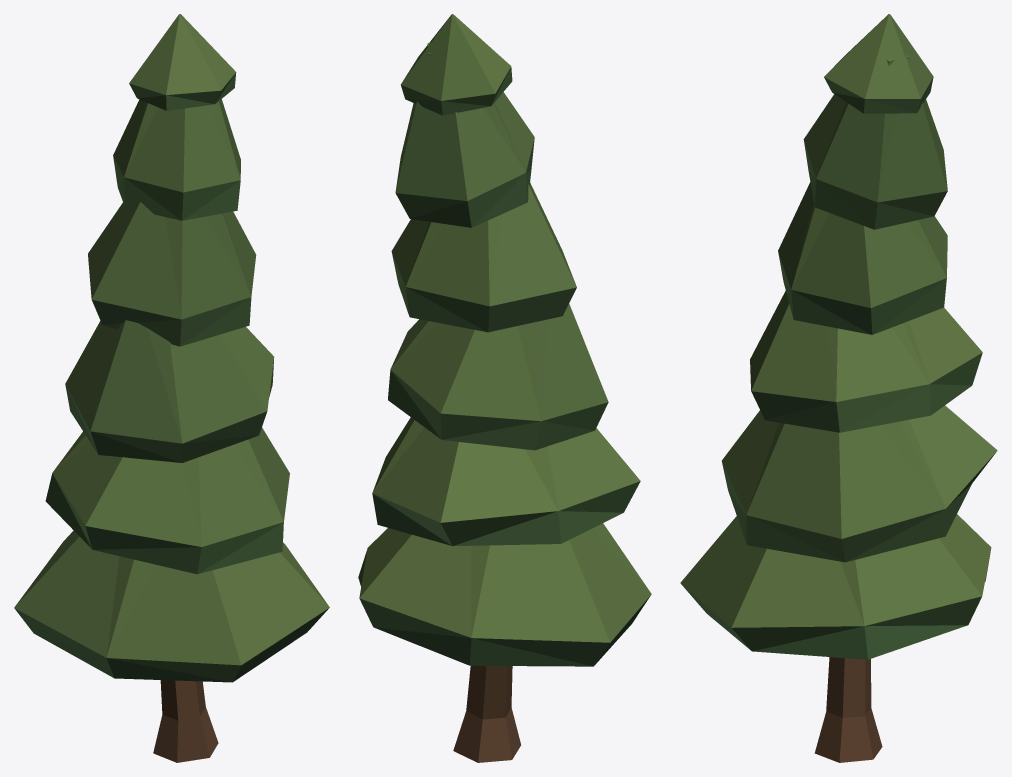
The model's file is pine.glb.
3 renders of one model, left to right at view 1: azimuth 30°, elevation 25°; view 2: azimuth 150°, elevation 25°; view 3: azimuth 270°, elevation 25°, orthographic. The views are drawn at different scales.
Visible parts, largest first — view 1: pine; view 2: pine; view 3: pine.
Boxes of the visible parts, box(x1,y1,x2,y2) form: pine: box(14, 14, 329, 762); pine: box(358, 14, 651, 762); pine: box(680, 14, 997, 762).
Size of the model in its own units: 3.58 by 9.46 by 3.66.
